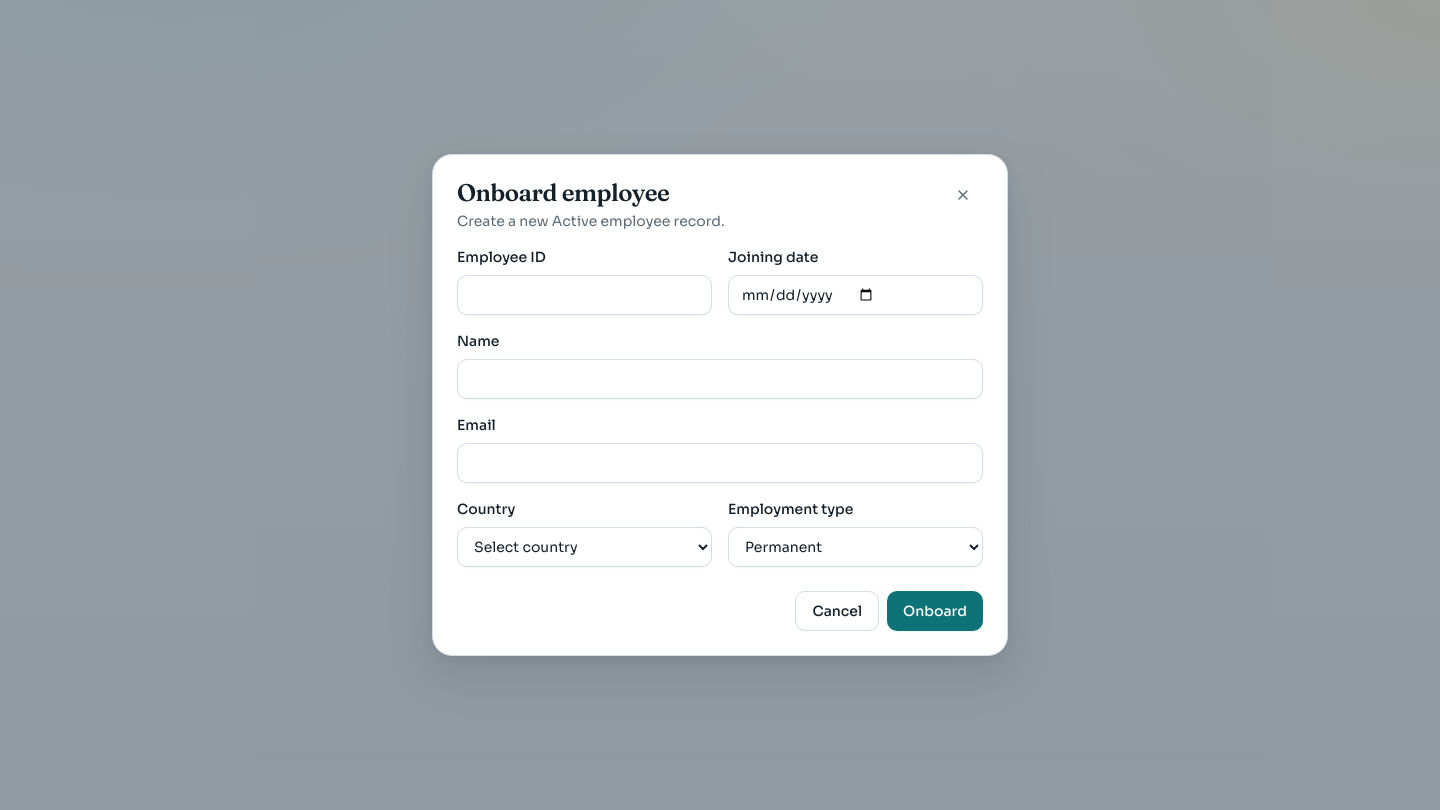
Scenario: OnboardModal › shows validation errors when submitted empty
Click the button "Onboard". click: [935, 611]
box: x1=887 y1=591 x2=983 y2=631
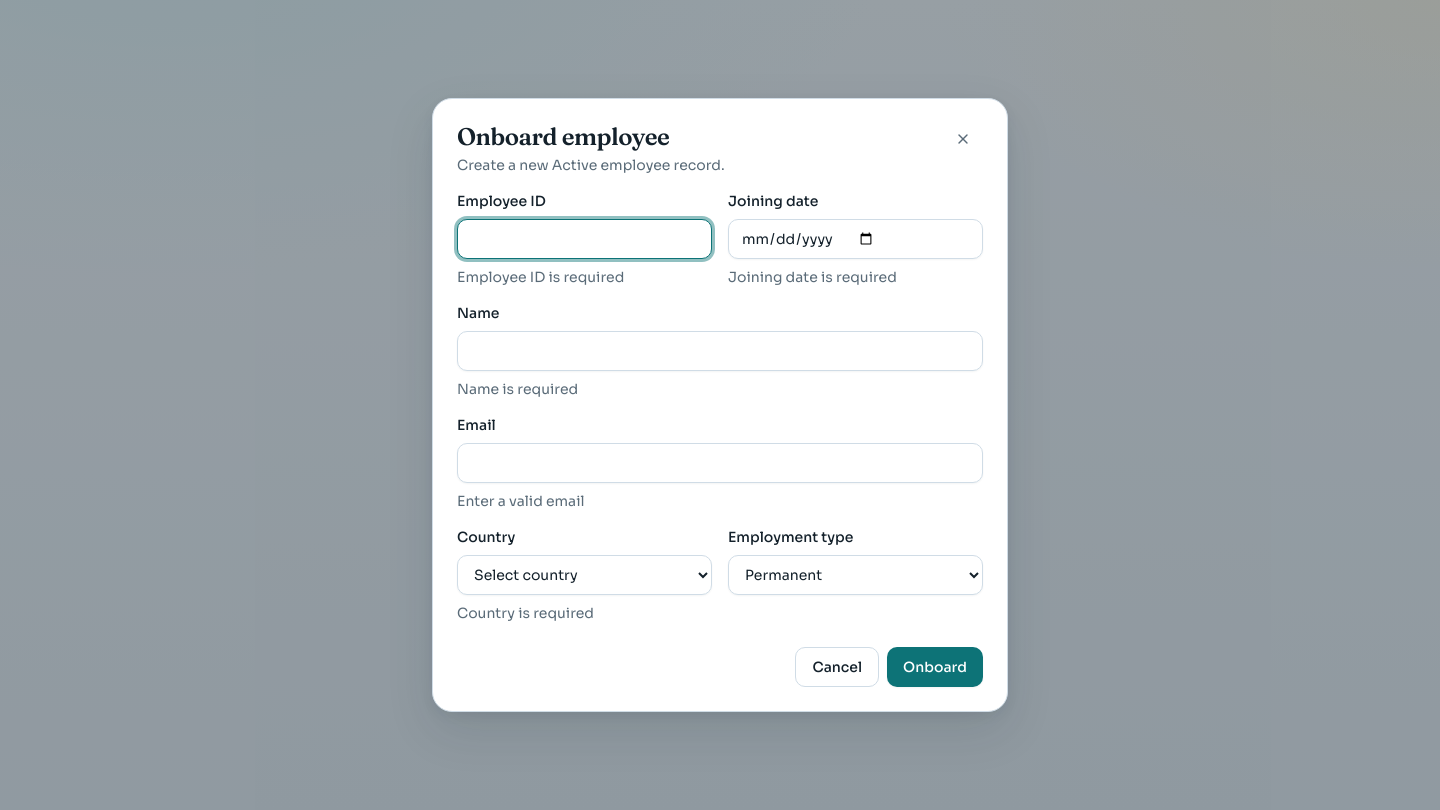
Result: the text "Employee ID is required" is shown at x1=457 y1=268 x2=624 y2=286
Result: the text "Name is required" is shown at x1=457 y1=380 x2=578 y2=398
Result: the text "Enter a valid email" is shown at x1=457 y1=492 x2=584 y2=510
